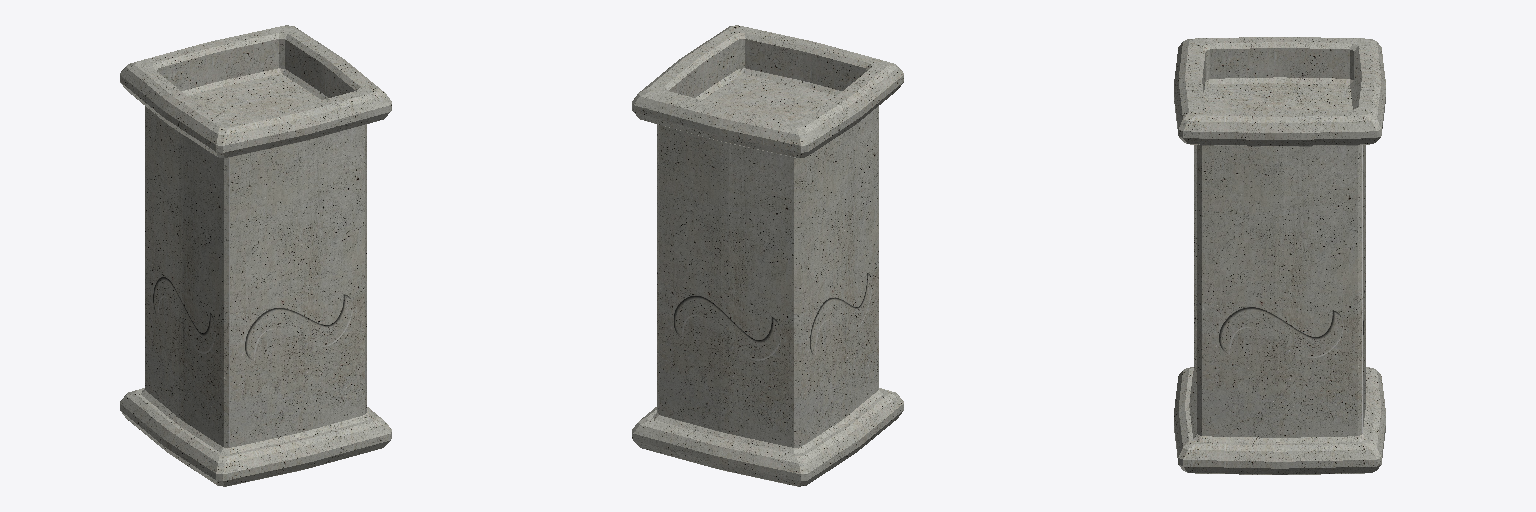
3 views of the same model, side by side, from view 1: azimuth 30°, elevation 25°; view 2: azimuth 150°, elevation 25°; view 3: azimuth 270°, elevation 25° (orthographic).
Visible parts, largest first — view 1: water_Plane.003; view 2: water_Plane.003; view 3: water_Plane.003.
Part boxes in pixels (x1,y1,x2,y2): water_Plane.003: (120,25,391,486); water_Plane.003: (632,25,903,486); water_Plane.003: (1174,37,1385,474).
Bounding box in the file's own units: 0.1291 × 0.24 × 0.1291.
1 materials, 1 textured.